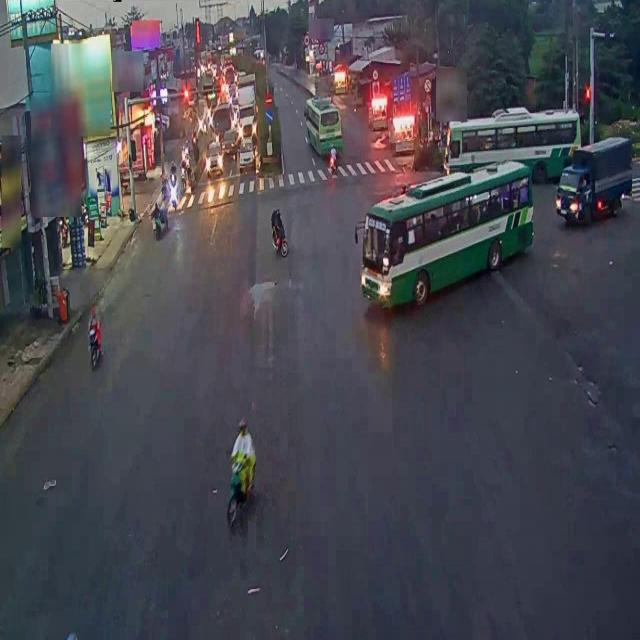bus: (367, 166, 537, 317)
motorcycle: (225, 416, 259, 528), (270, 204, 288, 260), (89, 307, 103, 366)
